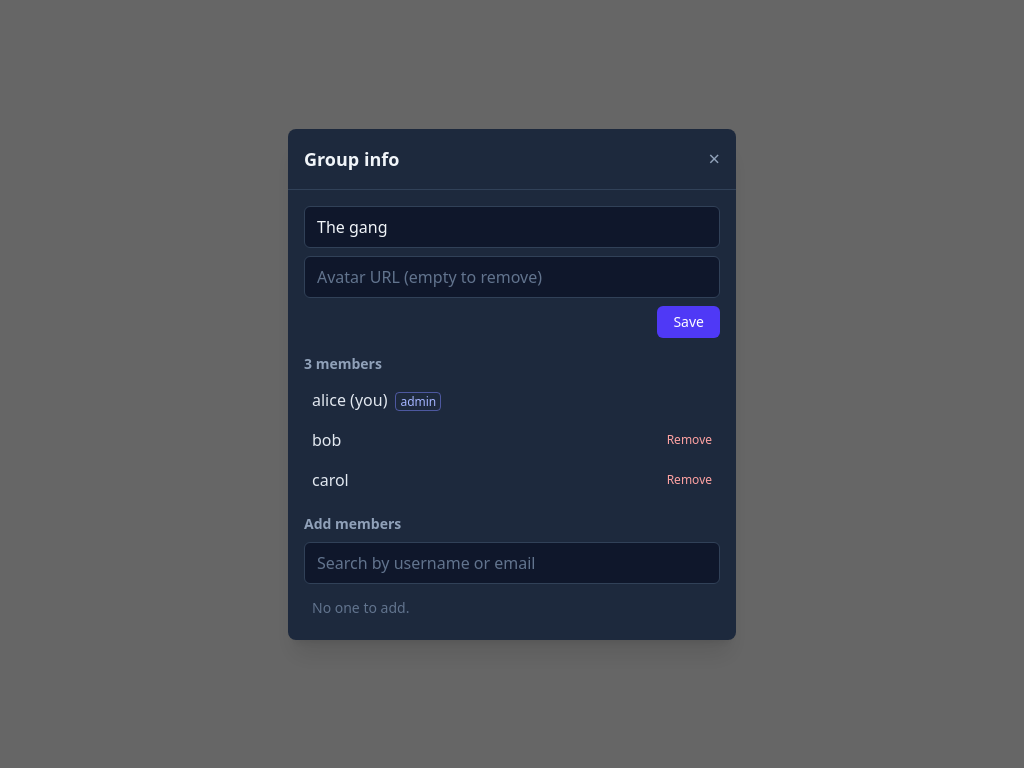
Test case: GroupInfoModal › shows an API failure inline instead of blanking anything
This screenshot has width=1024, height=768.
Click the button "Remove" in the row of "bob" at (689,440), box [667,432,712,448]
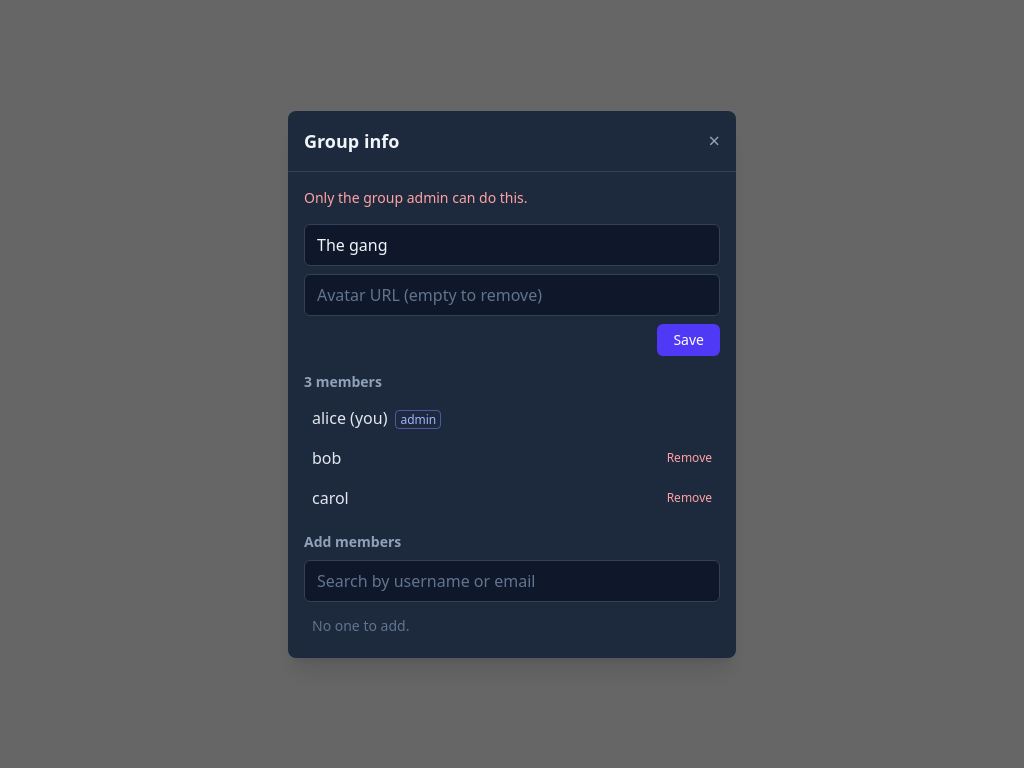
Expected: the message reads "Only the group admin can do this.", [304,188,528,206]
